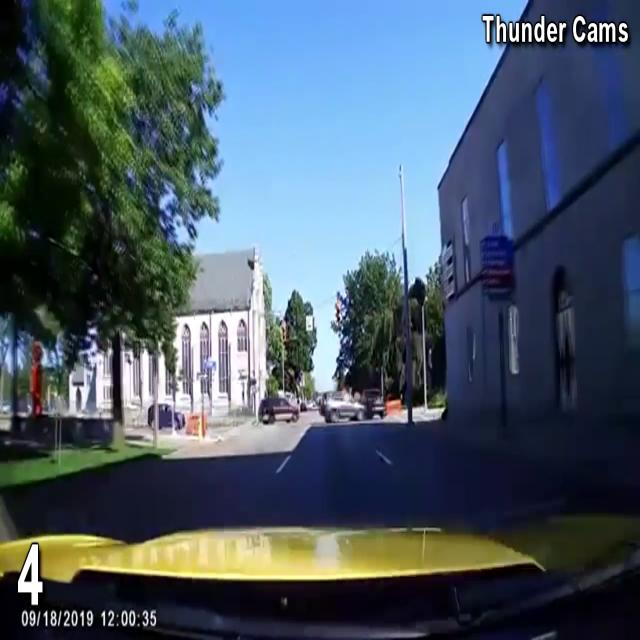accident: (319, 384, 389, 436)
